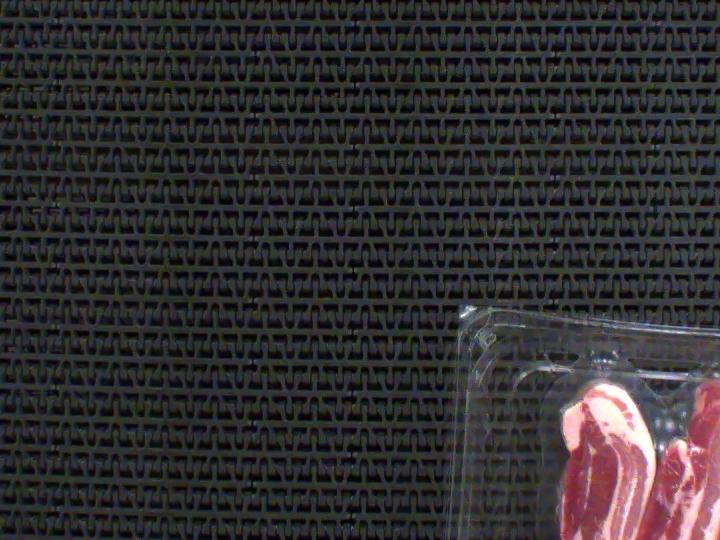unsealed: (533, 338, 720, 540)
